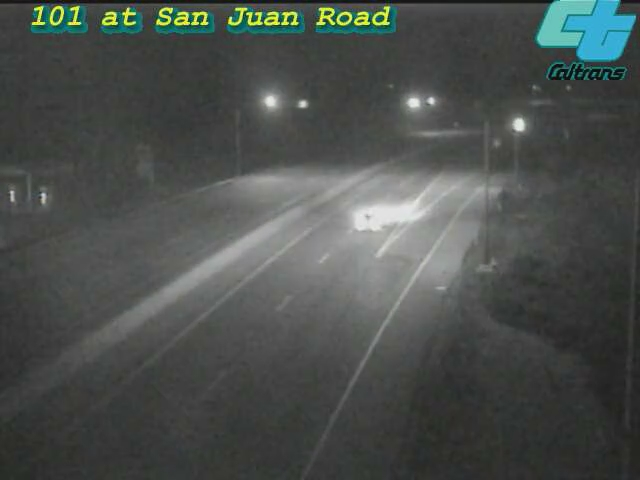vehicle: (326, 182, 406, 262), (494, 100, 544, 150)
